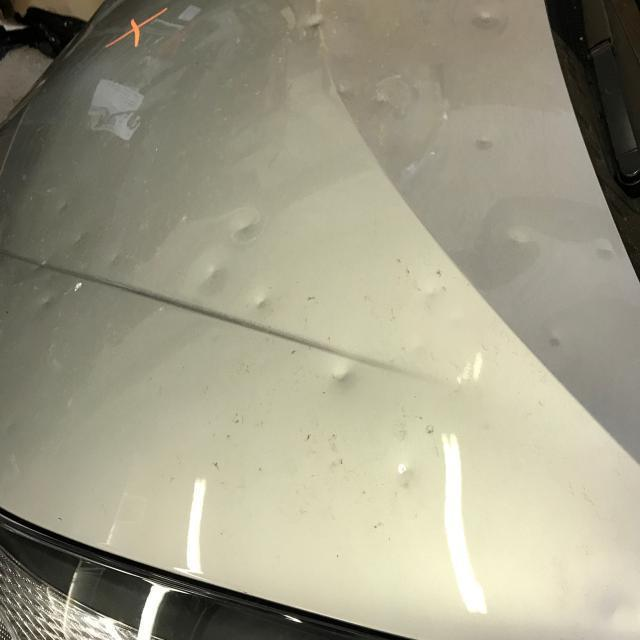Dent: (332, 364, 356, 391), (470, 9, 498, 31), (303, 12, 329, 35), (505, 231, 530, 250), (396, 460, 414, 484), (238, 216, 257, 238), (207, 262, 225, 285), (41, 292, 57, 312), (476, 136, 493, 154), (545, 333, 562, 350), (254, 294, 269, 313), (73, 231, 85, 250), (33, 260, 46, 277), (58, 200, 69, 216)
